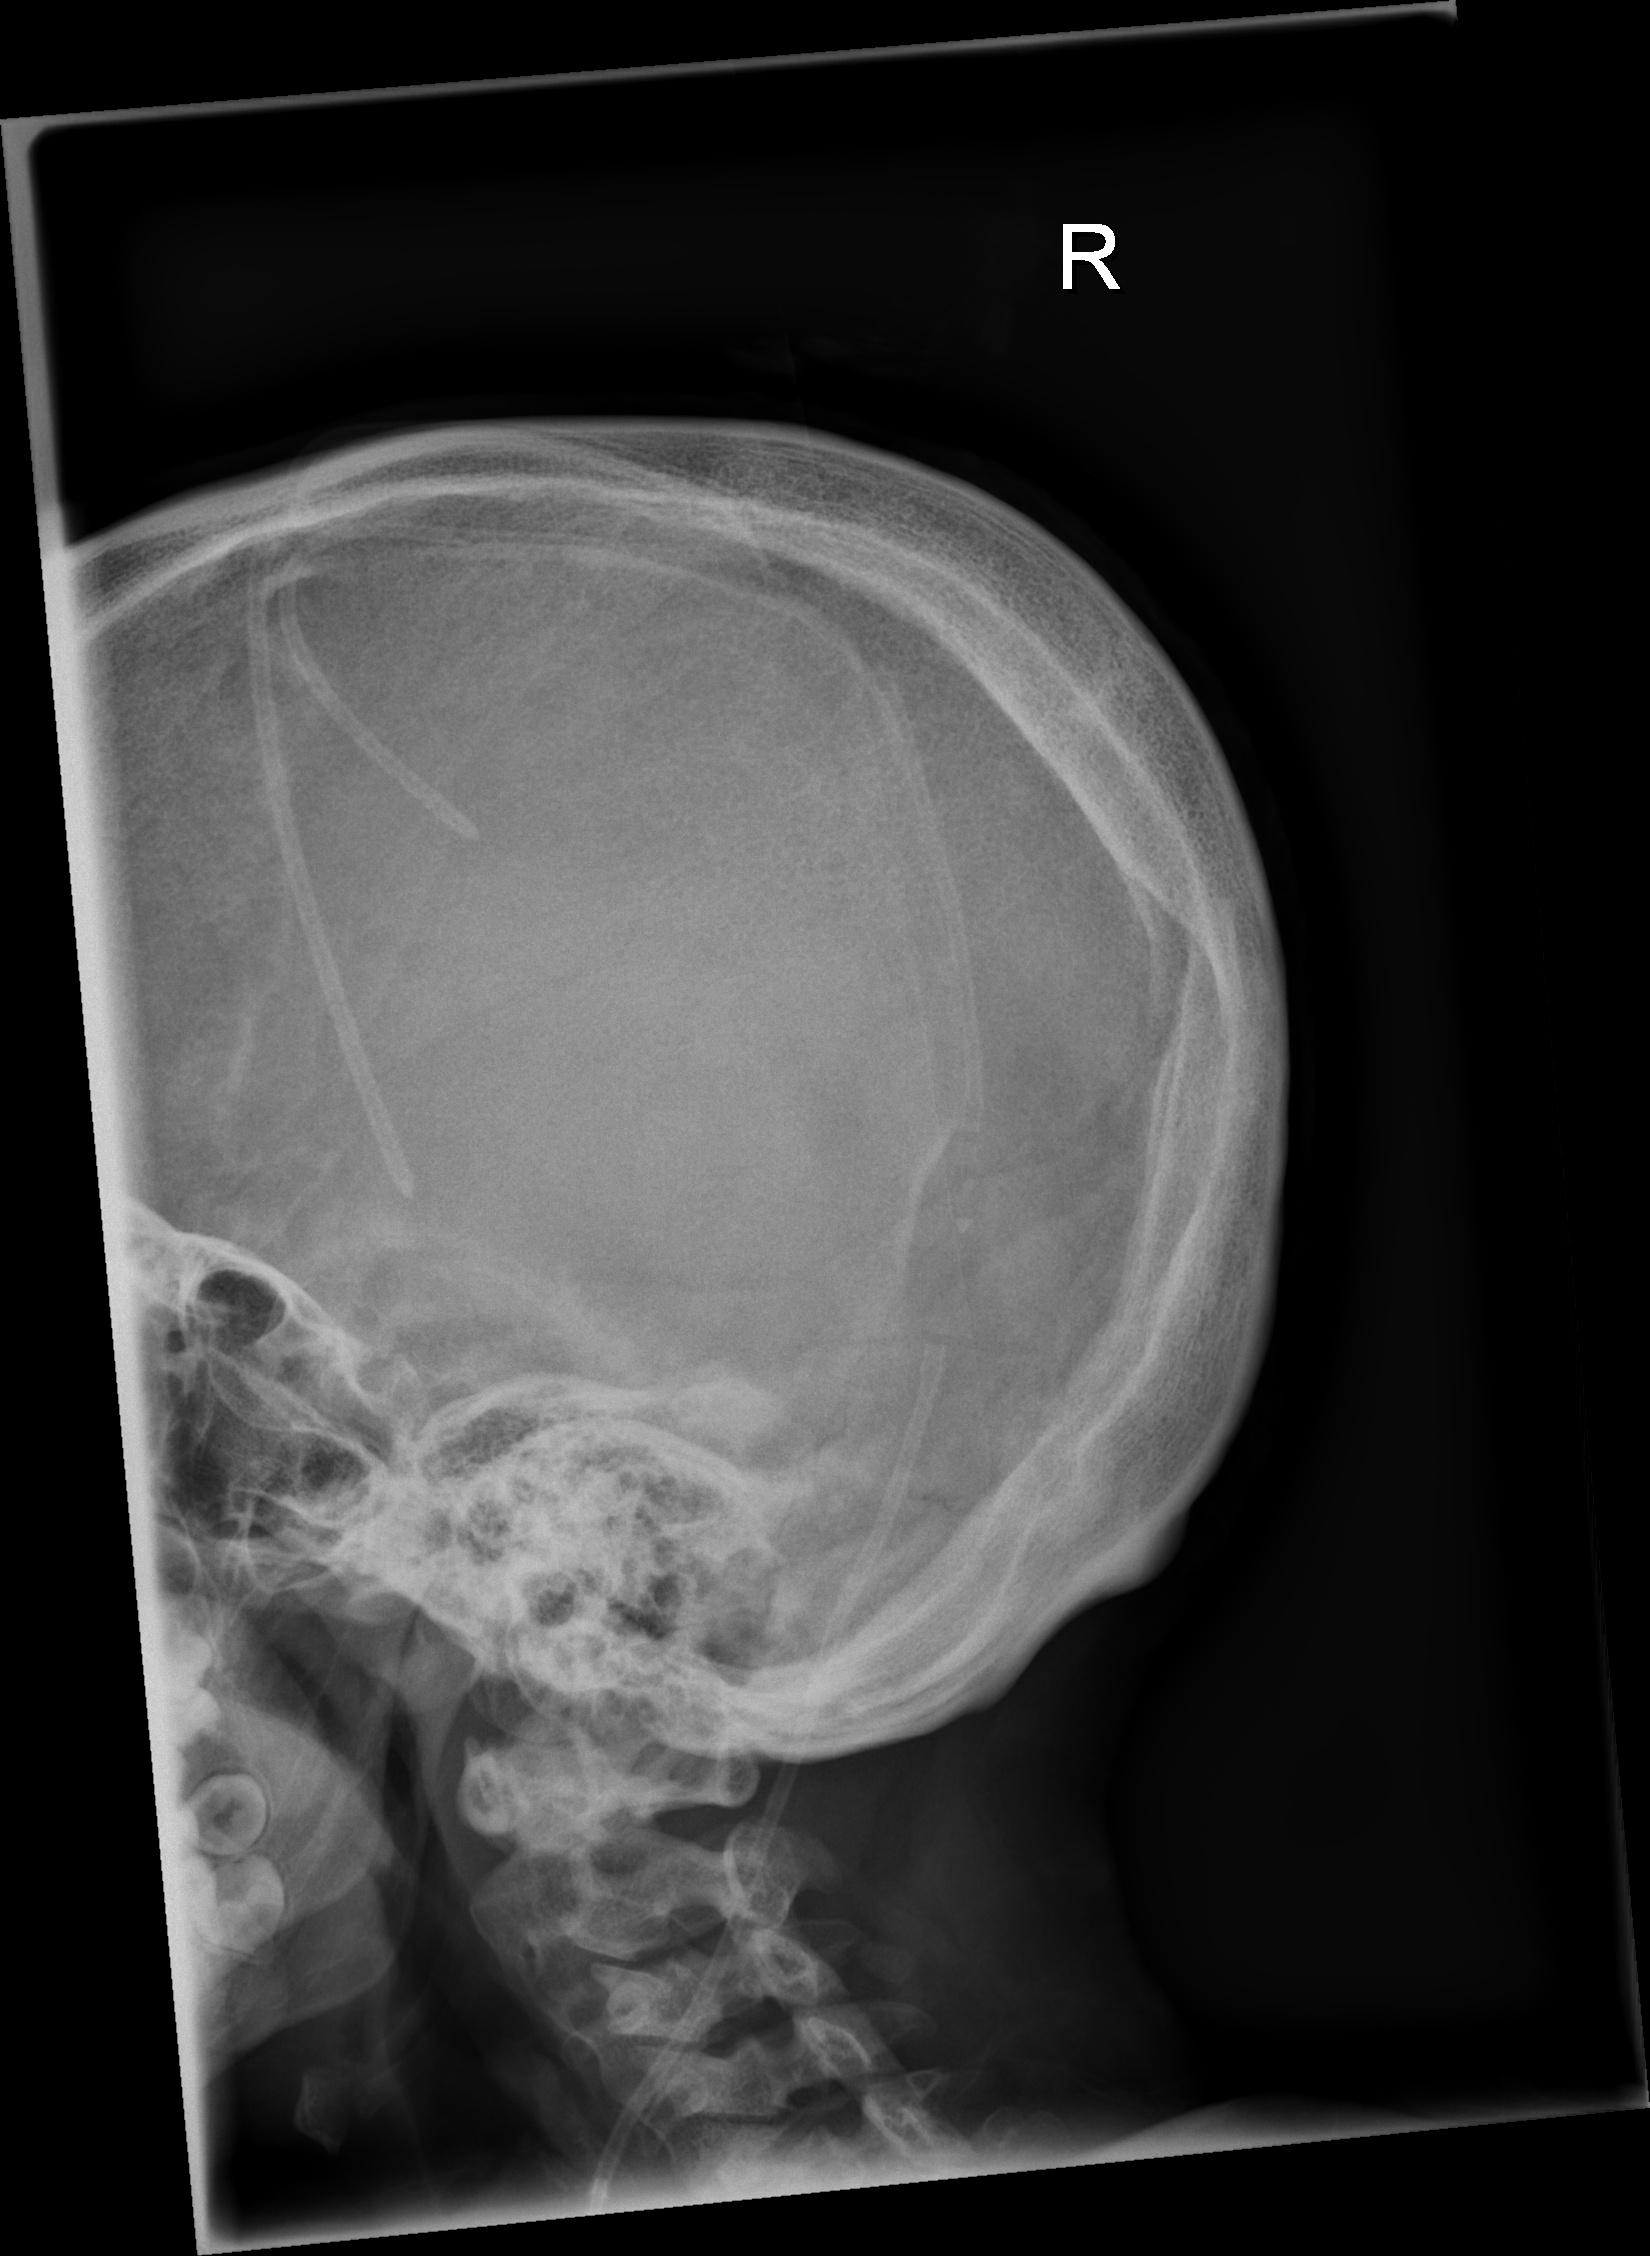Codman Uni-Shunt: (899, 1124, 1011, 1363)
